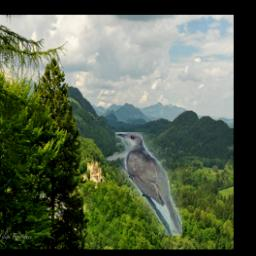Cuckoo: (116, 133, 183, 237)
